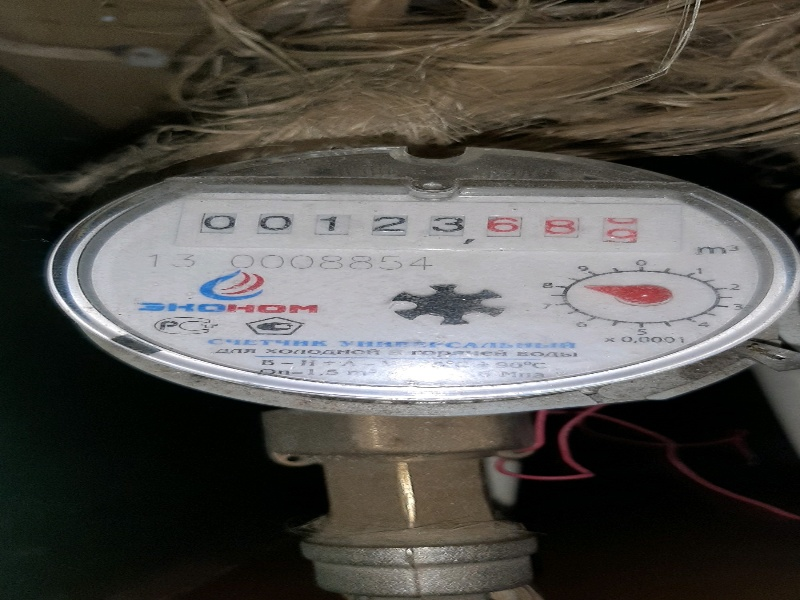meter: (192, 196, 678, 256)
